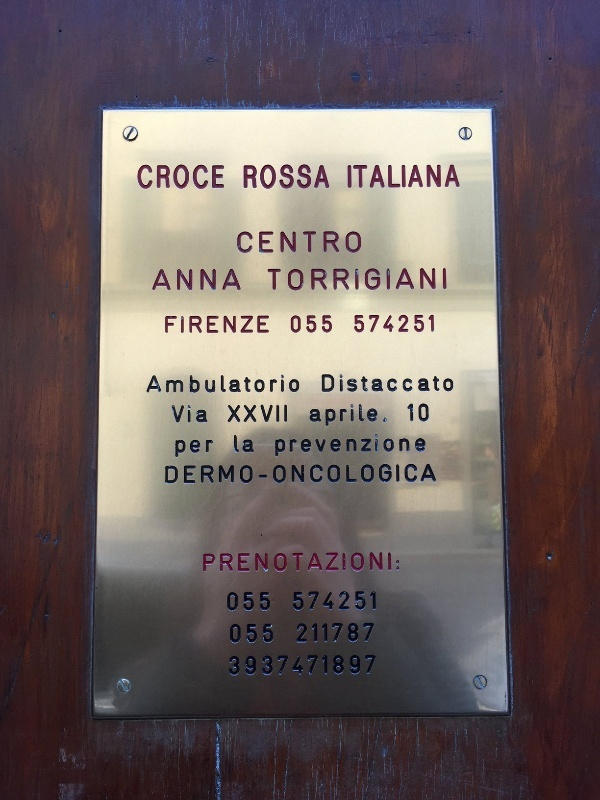text: (289, 429, 304, 460), (305, 429, 320, 460), (321, 429, 336, 460), (337, 429, 352, 460), (353, 429, 368, 460), (369, 429, 384, 460), (385, 429, 400, 460), (401, 429, 416, 460), (209, 164, 225, 191), (145, 164, 160, 191), (161, 164, 176, 191), (177, 164, 192, 191), (193, 164, 208, 191), (275, 429, 288, 460), (353, 164, 368, 190), (369, 164, 384, 190), (385, 164, 400, 190), (401, 164, 416, 190), (417, 164, 432, 190), (433, 164, 448, 190), (321, 402, 336, 428), (337, 402, 352, 428), (353, 402, 368, 428), (369, 402, 384, 428), (241, 654, 256, 680), (257, 654, 272, 680), (273, 654, 288, 680), (289, 654, 304, 680), (305, 654, 320, 680), (321, 654, 336, 680), (337, 654, 352, 680), (353, 654, 368, 680), (385, 551, 401, 575), (257, 165, 272, 190), (273, 165, 288, 190), (289, 165, 304, 190), (305, 165, 320, 190), (241, 230, 256, 255), (257, 230, 272, 255), (273, 230, 288, 255), (289, 230, 304, 255), (305, 230, 320, 255), (321, 230, 336, 255), (337, 230, 352, 255), (161, 268, 176, 292), (177, 268, 192, 292), (193, 268, 208, 292), (209, 268, 224, 292), (225, 268, 240, 292), (273, 268, 288, 292), (289, 268, 304, 292), (305, 268, 320, 292), (321, 268, 336, 292), (337, 268, 352, 292), (353, 268, 368, 292), (369, 268, 384, 292), (385, 268, 400, 292), (401, 268, 416, 292), (417, 268, 432, 292), (209, 551, 224, 575), (225, 551, 240, 575), (241, 551, 256, 575), (257, 551, 272, 575), (273, 551, 288, 575), (289, 551, 304, 575), (305, 551, 320, 575), (321, 551, 336, 575), (337, 551, 352, 575), (353, 551, 368, 575), (369, 551, 384, 575), (273, 462, 288, 486), (289, 462, 304, 486), (305, 462, 320, 486), (321, 462, 336, 486), (337, 462, 352, 486), (353, 462, 368, 486), (369, 462, 384, 486), (385, 462, 400, 486), (401, 462, 416, 486), (417, 462, 432, 486), (273, 403, 289, 425), (305, 621, 320, 644), (321, 621, 336, 644), (337, 621, 352, 644), (353, 621, 368, 644), (433, 268, 447, 292), (177, 404, 192, 426), (193, 404, 208, 426), (241, 403, 256, 425), (257, 403, 272, 425), (241, 591, 256, 613), (241, 623, 256, 645), (257, 623, 272, 645), (161, 374, 176, 395), (177, 374, 192, 395), (193, 374, 208, 395), (209, 374, 224, 395), (225, 374, 240, 395), (241, 374, 256, 395), (257, 374, 272, 395), (273, 374, 288, 395), (337, 373, 352, 394), (353, 373, 368, 394), (369, 373, 384, 394), (385, 373, 400, 394), (401, 373, 416, 394), (417, 373, 432, 394), (433, 373, 448, 394), (177, 465, 192, 486), (193, 465, 208, 486), (209, 465, 224, 486), (225, 465, 240, 486), (305, 591, 320, 612), (321, 591, 336, 612), (337, 591, 352, 612), (353, 591, 368, 612), (449, 164, 461, 190), (257, 591, 271, 613), (244, 165, 256, 190), (177, 315, 192, 335), (193, 315, 208, 335), (209, 315, 224, 335), (225, 315, 240, 335), (241, 315, 256, 335), (322, 373, 336, 394), (227, 591, 240, 613), (229, 654, 240, 680), (177, 439, 192, 458), (193, 439, 208, 458), (305, 315, 320, 334), (417, 429, 426, 460), (369, 315, 384, 333), (385, 315, 400, 333), (401, 315, 416, 333), (417, 315, 432, 333), (228, 403, 240, 425), (257, 315, 270, 335), (310, 402, 320, 428), (369, 654, 379, 680), (289, 374, 301, 395), (241, 465, 253, 486), (354, 315, 368, 333), (291, 315, 304, 334), (417, 403, 429, 423), (241, 435, 254, 453), (165, 465, 176, 486), (321, 315, 333, 334), (321, 165, 330, 190), (165, 315, 176, 335), (230, 623, 240, 645), (294, 591, 304, 612), (353, 230, 361, 255), (137, 164, 144, 191), (407, 403, 416, 423), (369, 591, 377, 612), (297, 621, 304, 644), (369, 621, 376, 644), (153, 374, 160, 395), (266, 268, 272, 292), (433, 462, 439, 486), (170, 404, 176, 426), (233, 435, 240, 453), (203, 551, 208, 575), (449, 373, 454, 394), (348, 164, 352, 190), (209, 439, 213, 458), (237, 230, 240, 255), (258, 474, 272, 479), (385, 402, 387, 428), (241, 268, 243, 292), (273, 623, 274, 645), (433, 315, 434, 333)
